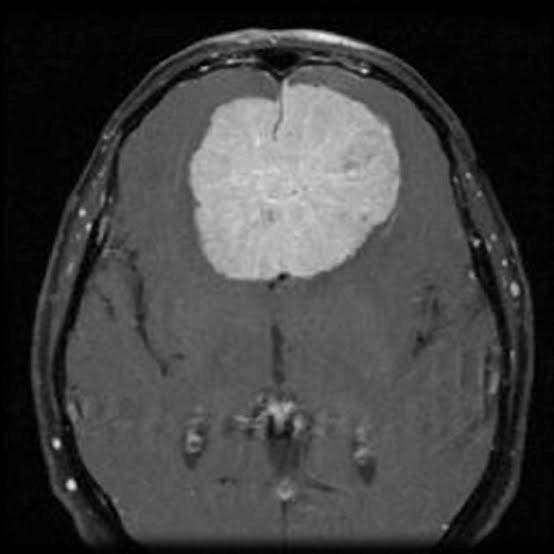Tumour-Meningioma: (182, 77, 418, 336)
